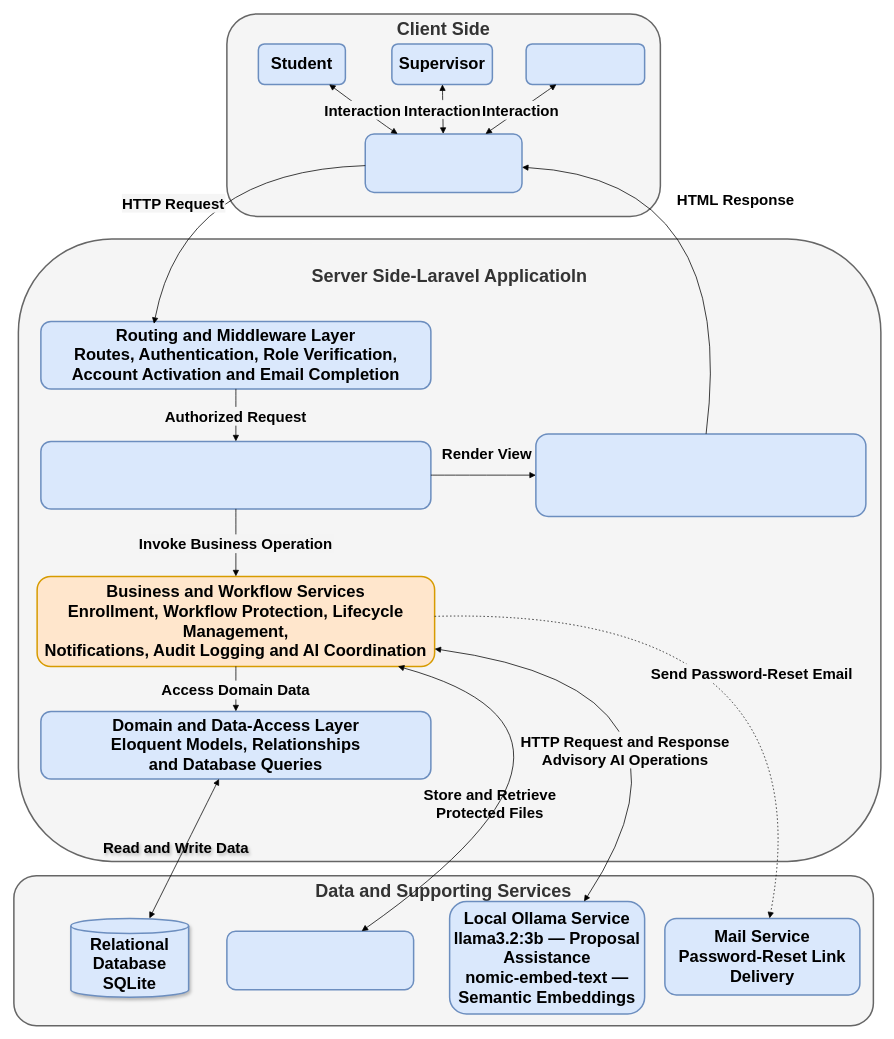
This 894x1039 diagram has some shape labels left out. Each missing label, with the centre of its shape:
Administrator: (585,64)
Controller Layer Request Validation, Authorization and Application Coordination: (235,474)
Presentation Layer Blade Views, Layouts, Forms, Dashboards and User Feedback: (700,475)
Private File Storage Milestone Submission Files: (320,960)
Web Browser HTTP / HTTPS Client: (443,163)
